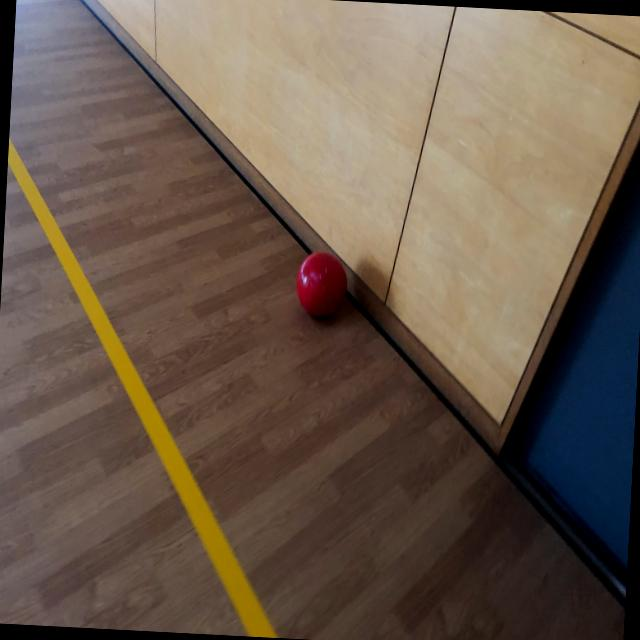red_ball: (295, 250, 348, 319)
